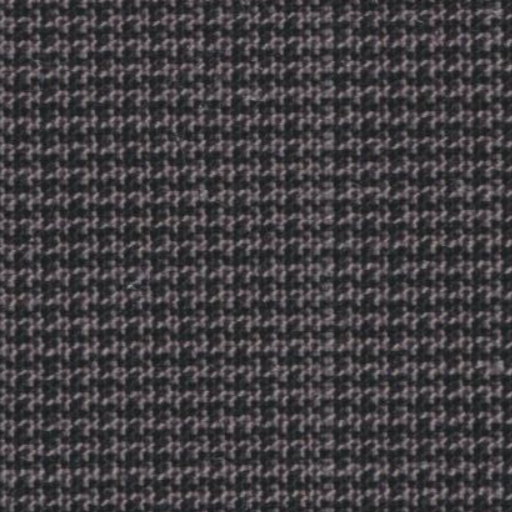TuoSha: (270, 10, 376, 496)
